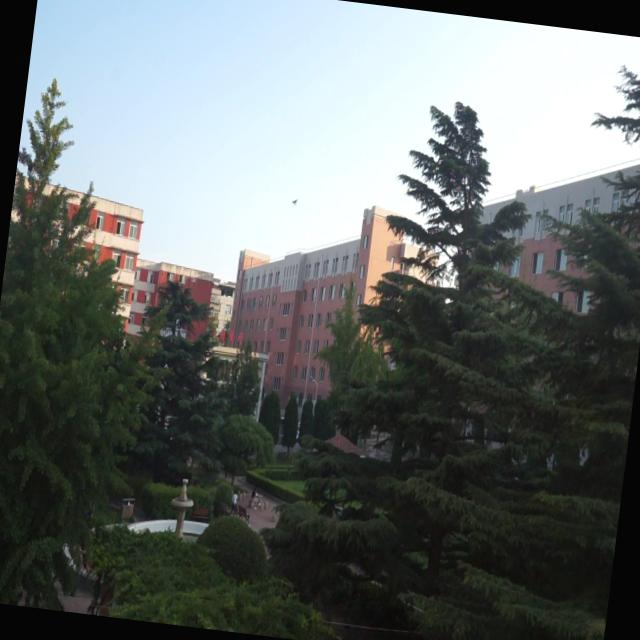drone: (289, 192, 301, 206)
